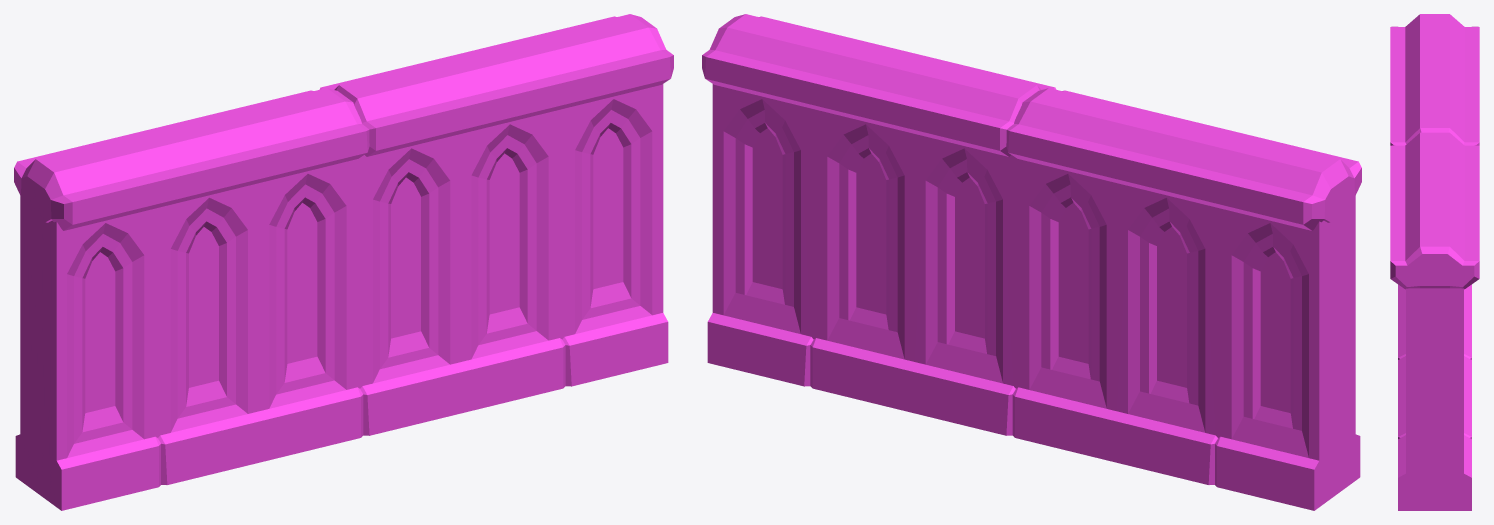
Rendered from SM_Railing_Stone_3m_B_Fantasy.fbx.
3 views of the same model, side by side, from view 1: azimuth 30°, elevation 25°; view 2: azimuth 150°, elevation 25°; view 3: azimuth 270°, elevation 25° (orthographic). The views are drawn at different scales.
Parts seen in each view (by area): view 1: SM_Railing_Stone_3m_B_Fantasy; view 2: SM_Railing_Stone_3m_B_Fantasy; view 3: SM_Railing_Stone_3m_B_Fantasy.
Boxes of the visible parts, x1=… form: SM_Railing_Stone_3m_B_Fantasy: x1=14, y1=14, x2=673, y2=510; SM_Railing_Stone_3m_B_Fantasy: x1=702, y1=14, x2=1361, y2=510; SM_Railing_Stone_3m_B_Fantasy: x1=1390, y1=14, x2=1479, y2=510.
Size of the model in its own units: 3.03 by 1.54 by 0.4755.
